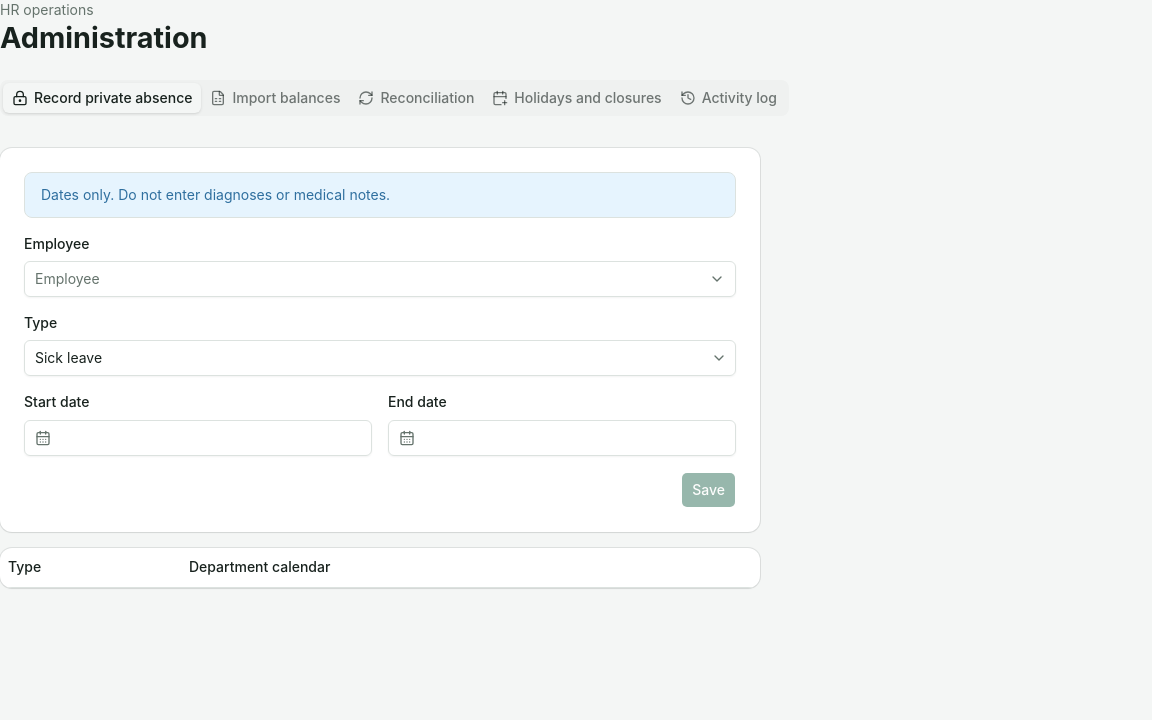
Test: Admin › drives the HR forms with shadcn controls and no native pickers
Expected: the text "Sick leave" is shown, [35, 350, 102, 366]
// The employee roster is a filtering combobox rather than a long native list.
Click the dropdown labelled "Employee" at x=67, y=279, box [24, 261, 736, 297]
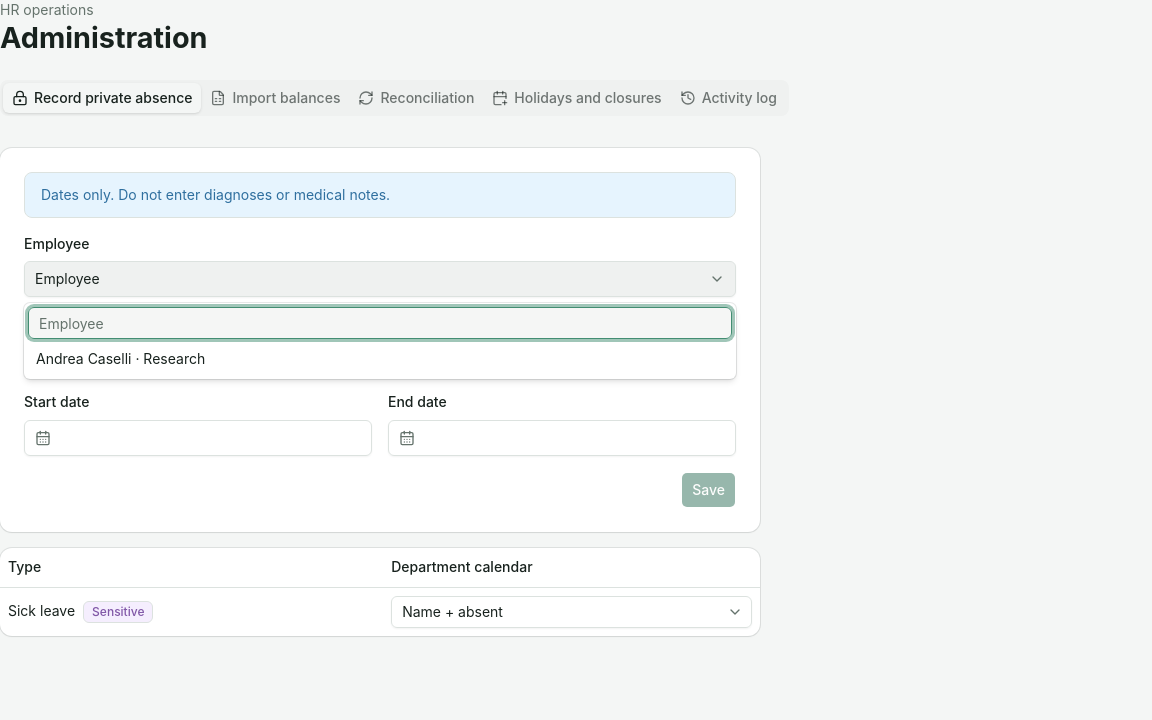
Click the option "Andrea Caselli · Research" at x=121, y=358, box [36, 350, 205, 367]
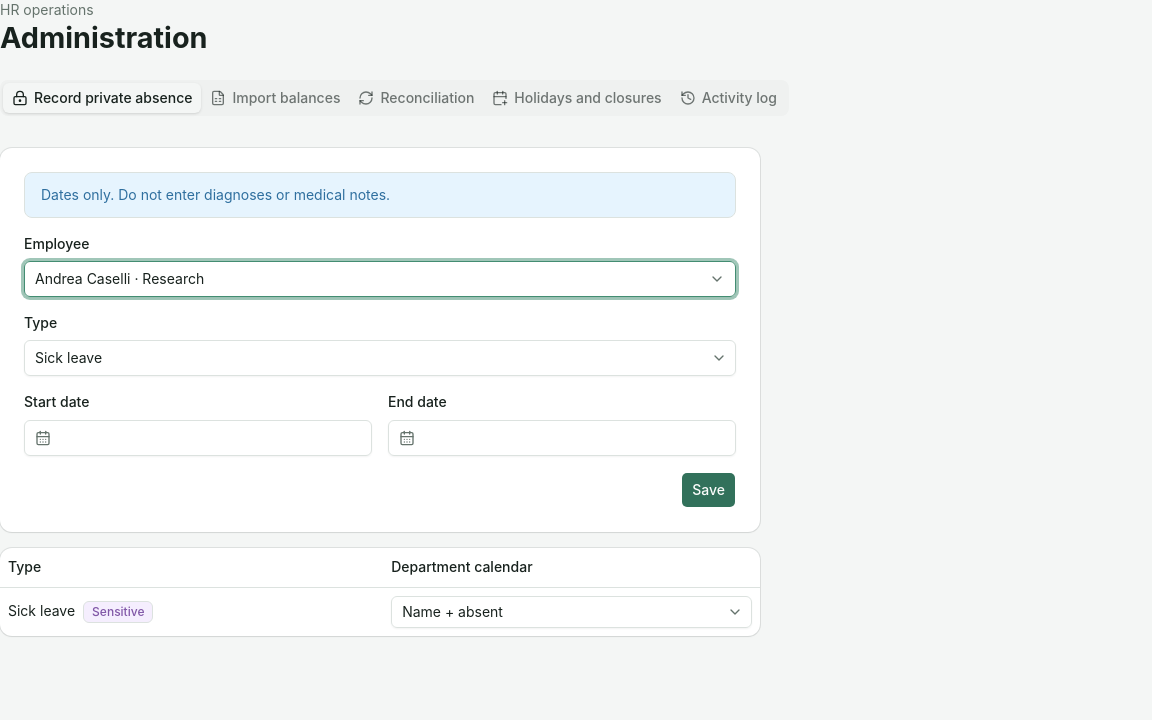
Now the dropdown named "Employee" shows "Andrea Caselli", box [24, 261, 736, 297]
Now the button "Save" is enabled, box [681, 472, 736, 508]
